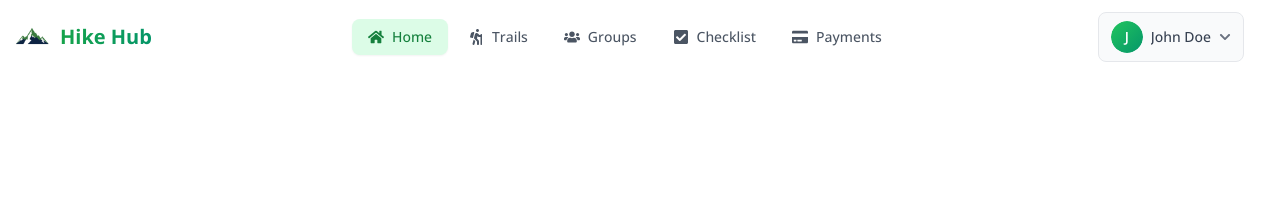
Test case: Header Component › Authenticated User › should show profile dropdown when profile button is clicked
Click the button "J John Doe": coordinates (1171, 37) [1098,12,1244,62]
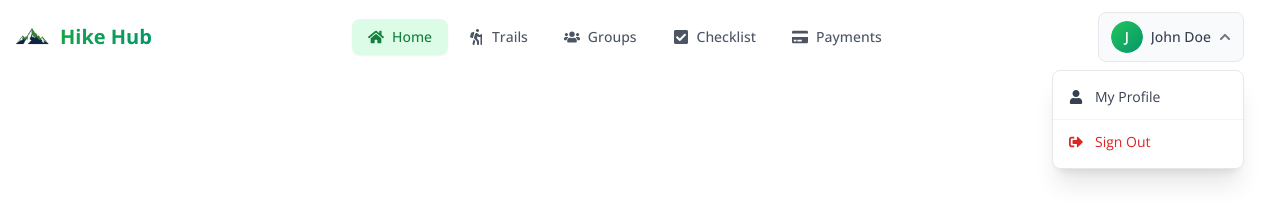
Now the link "My Profile" is shown, box [1069,87,1160,106]
Now the button "Sign Out" is shown, box [1053,124,1243,160]
